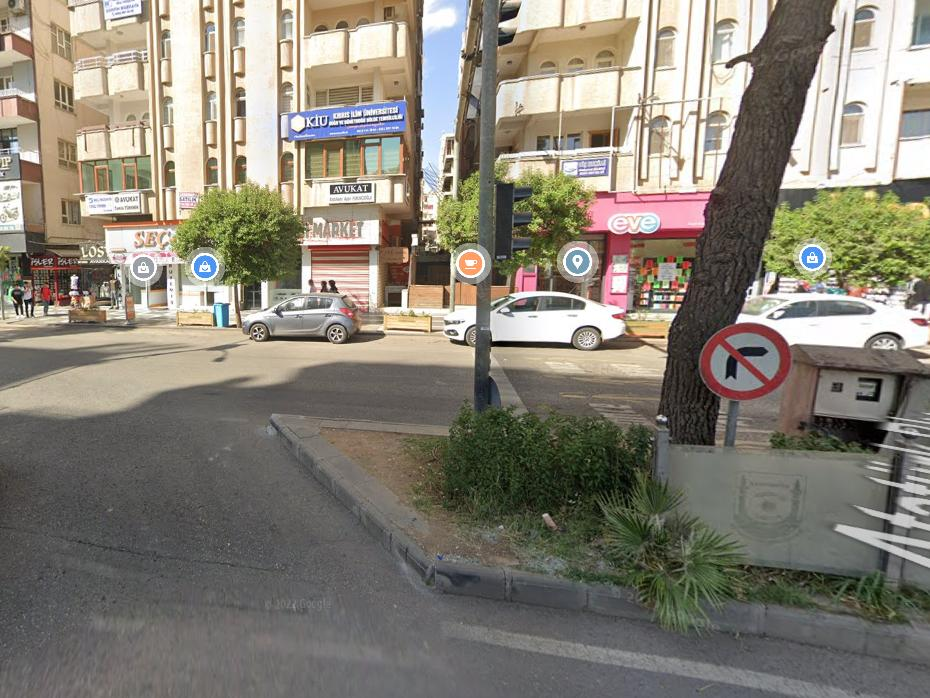rightturnsareforbidden: (703, 328, 787, 395)
